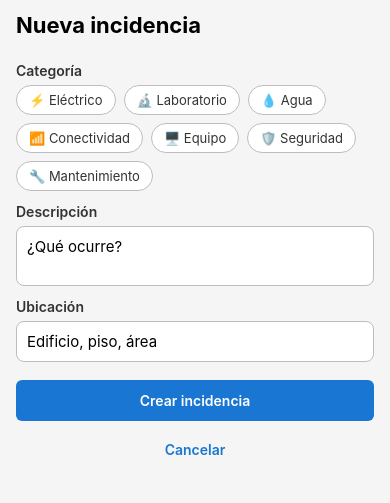
Test: CrearIncidencia form › shows a controlled message for {"kind":"http","status":422,"code":"invalid_incident"} and does not lock the form
Click the element with test id "categoria-water" at (287,100), box [248,85,326,115]
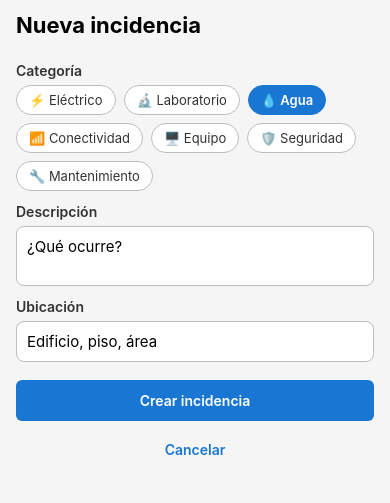
Type "  Fuga simulada  " into the text box with test id "input-descripcion" at (195,256), box [16,226,374,286]
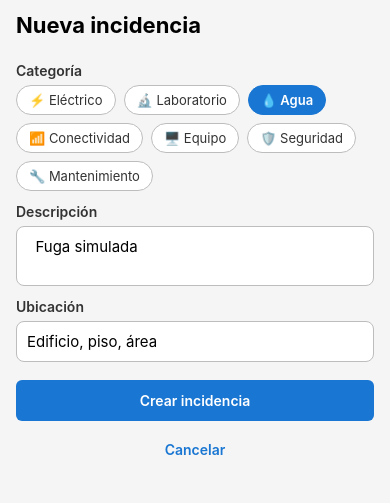
Type "Zona manual ficticia" into the field with test id "input-ubicacion" at (195,342), box [16,321,374,362]
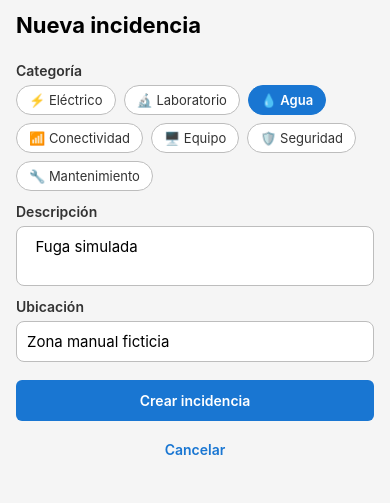
Click the element with test id "crear-enviar" at (195,400), box [16,380,374,421]
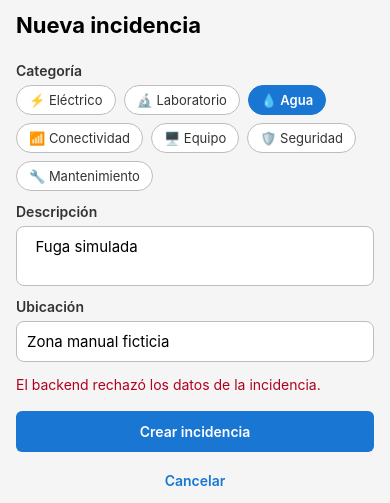
Result: the text "El backend rechazó los datos de la incidencia." is shown at [16,376,374,393]
